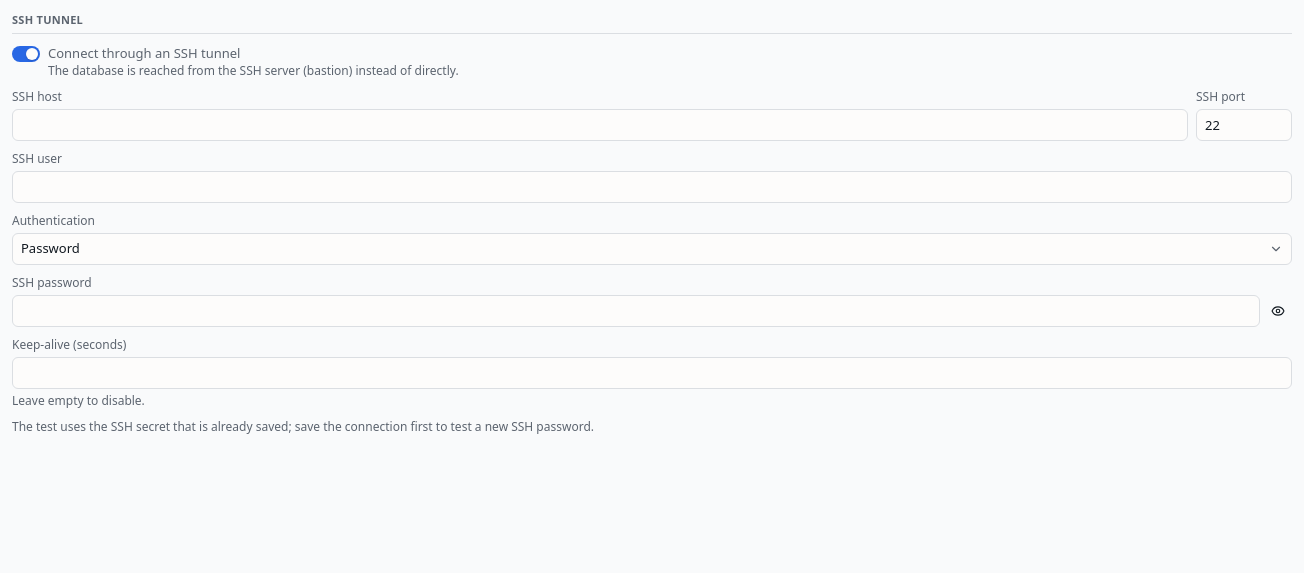
Test: SshSection › switches between password, private key and agent
Click the dropdown named "Authentication" at (50, 248), box [12,233,1292,265]
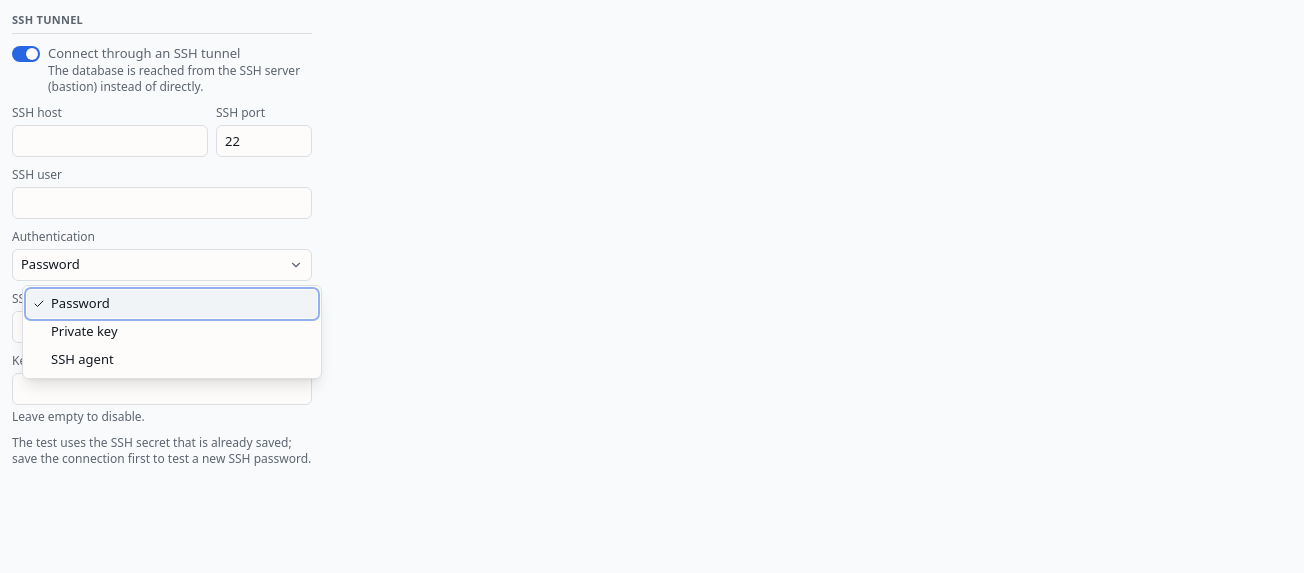
Click the option "Private key" at (84, 331), box [51,322,118,340]
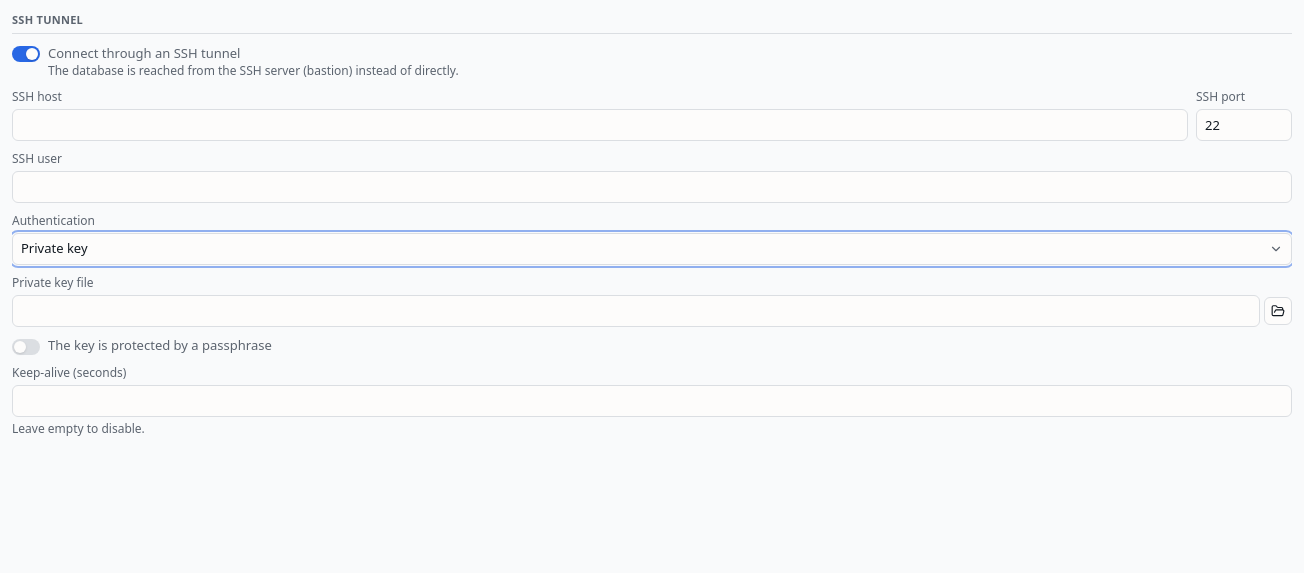
Check: the field labelled "Key passphrase" is not shown
Check: the field labelled "Private key file" is shown, box [12,295,1260,327]
Check: the label labelled "SSH password" is gone
Click the switch named "The key is protected by a passphrase" next to "The key is protected by a passphrase" at (26, 347), box [12,339,40,355]
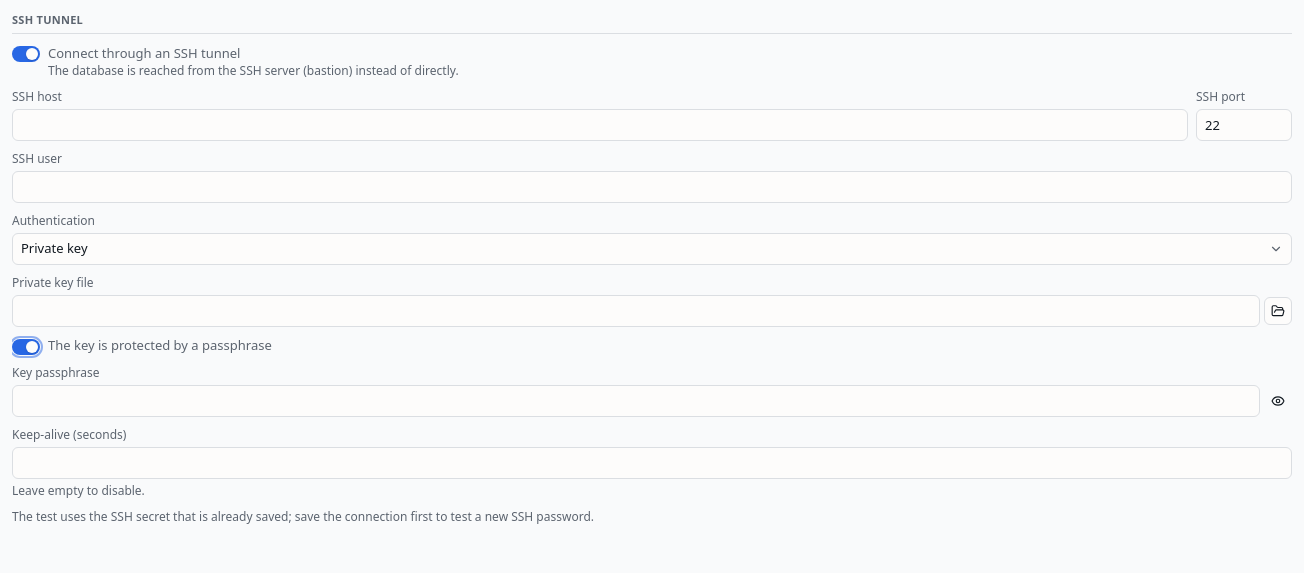
Check: the password field labelled "Key passphrase" is shown, box [12,385,1260,417]
Click the dropdown named "Authentication" at (54, 248), box [12,233,1292,265]
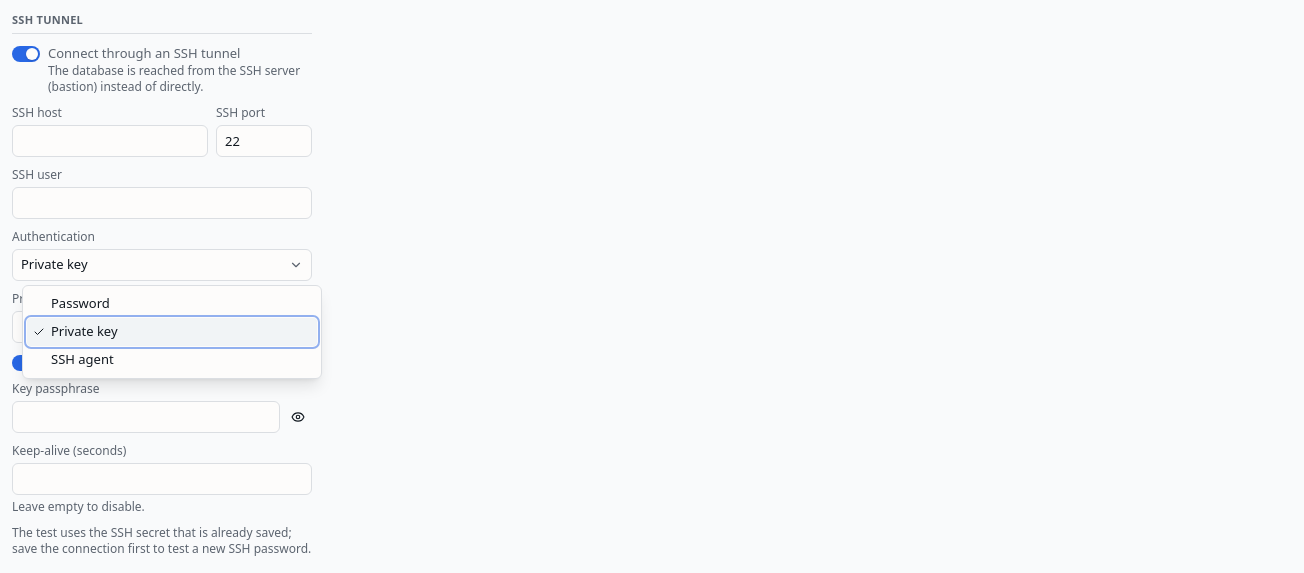
Click the option "SSH agent" at (82, 359), box [51,350,114,368]
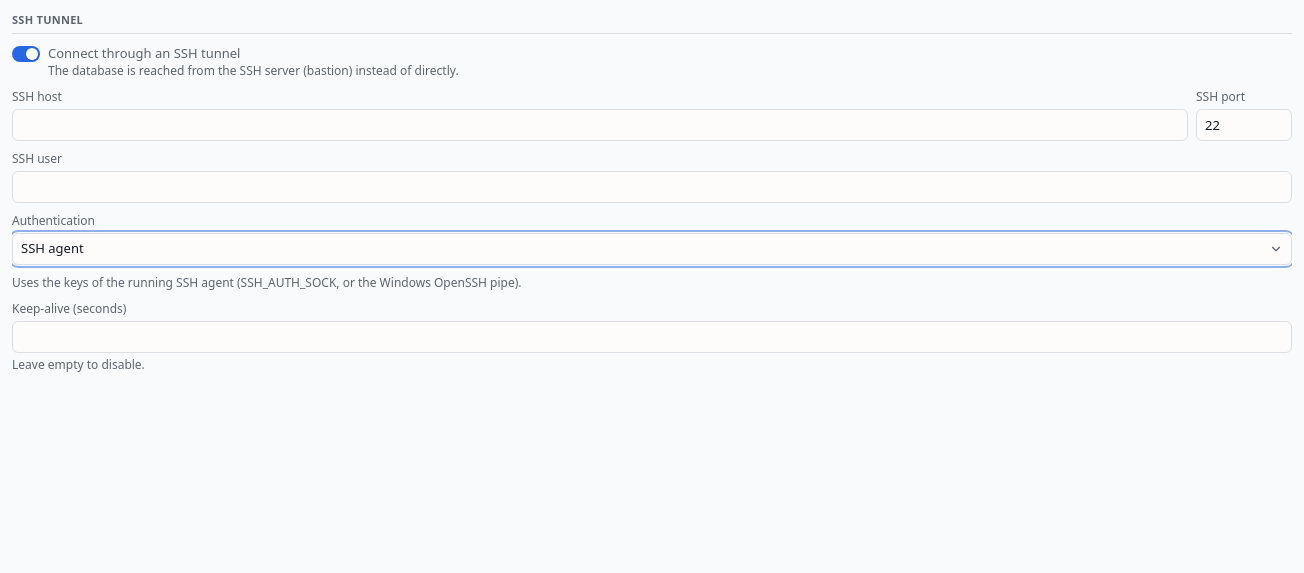
Check: the label labelled "Private key file" is gone
Check: the label labelled "Key passphrase" is gone
Check: the text "SSH_AUTH_SOCK" is shown, box [12,274,522,291]
